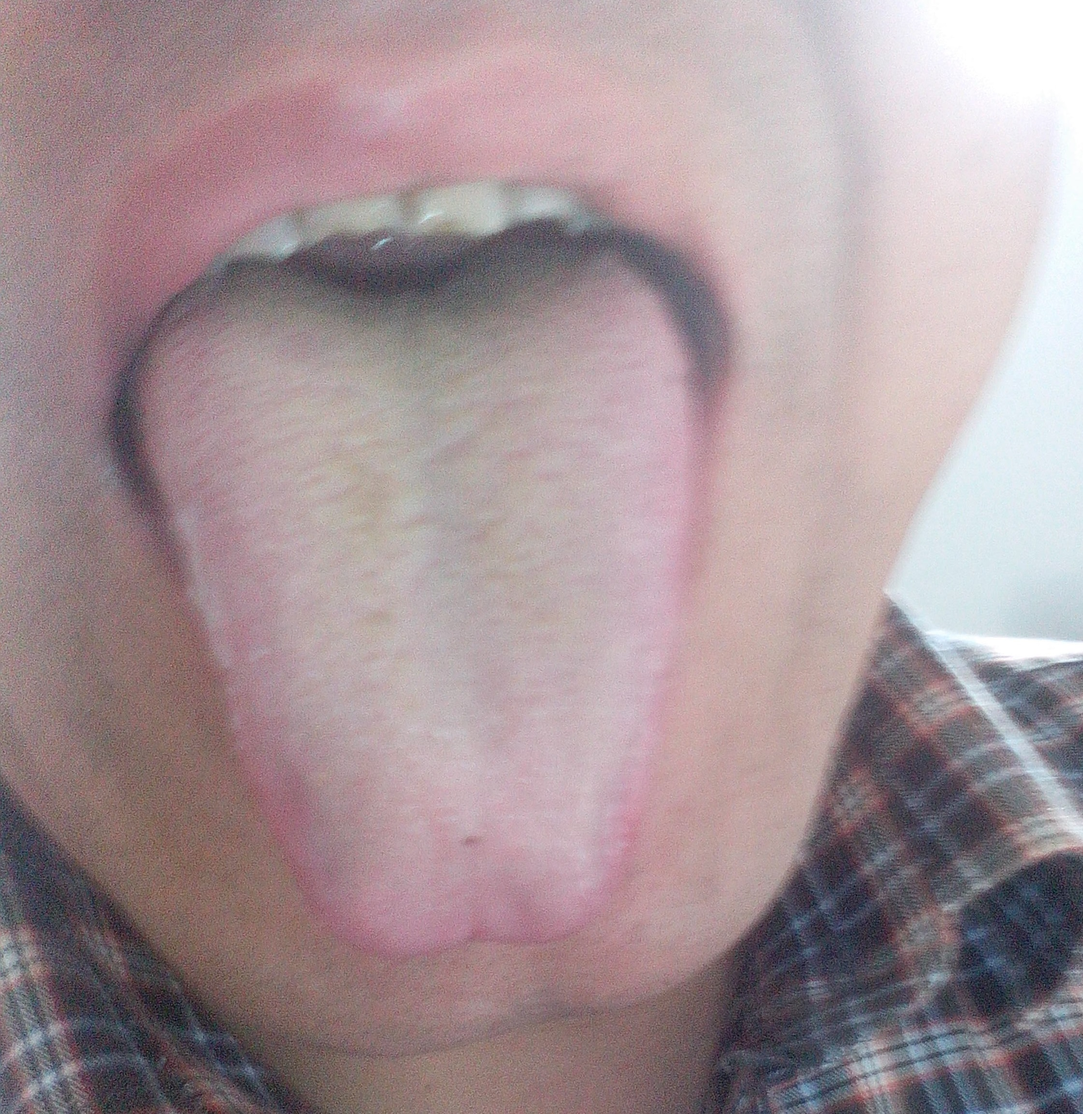baitaishe: (132, 239, 694, 956)
shenquao: (251, 250, 572, 315)
